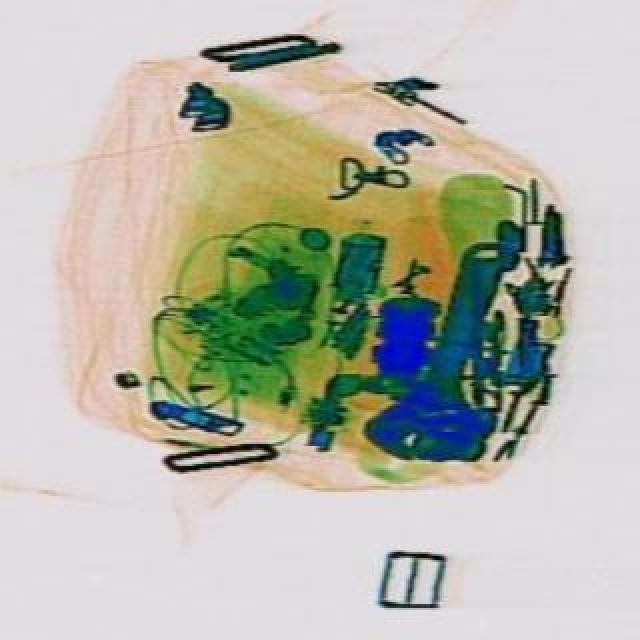scissors: (352, 220, 546, 476)
